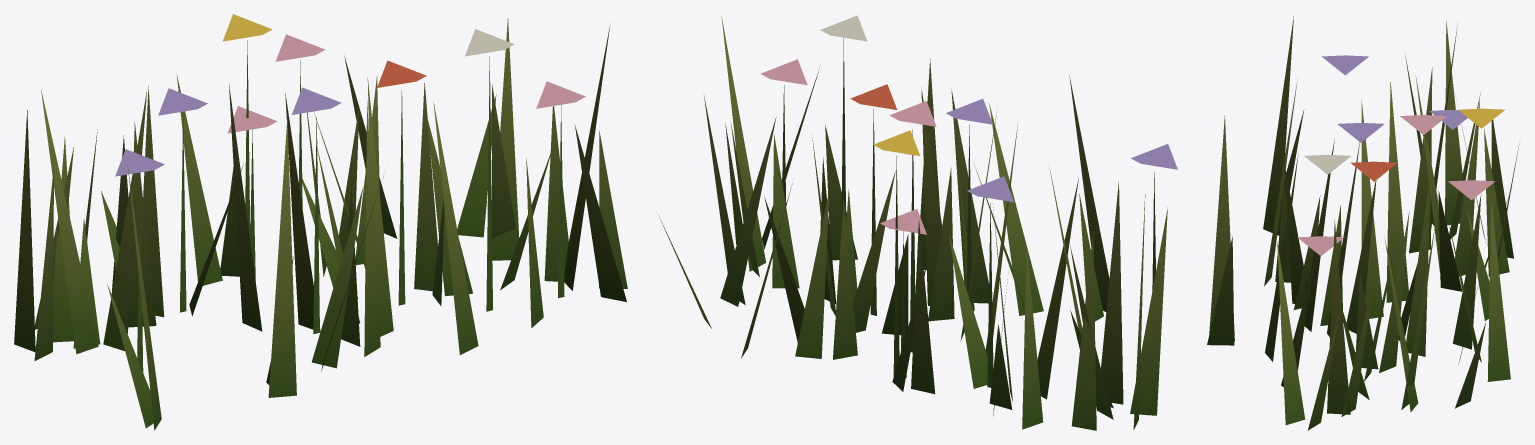
Rendered from meadow_edge.glb.
3 renders of one model, left to right at view 1: azimuth 30°, elevation 25°; view 2: azimuth 150°, elevation 25°; view 3: azimuth 270°, elevation 25°, orthographic. The views are drawn at different scales.
Parts seen in each view (by area): view 1: MeadowEdge; view 2: MeadowEdge; view 3: MeadowEdge.
Part boxes in pixels (x1,y1,x2,y2): MeadowEdge: [14, 14, 627, 430]; MeadowEdge: [658, 15, 1234, 430]; MeadowEdge: [1263, 16, 1519, 430].
Bounding box in the file's own units: 1.25 × 0.621 × 0.6467.
